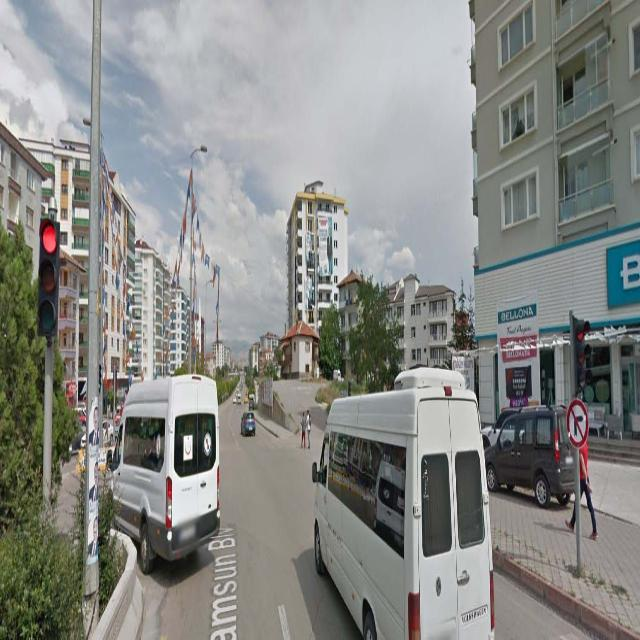kirmizi: (39, 220, 58, 335)
sagadonulmez: (569, 402, 586, 445)
